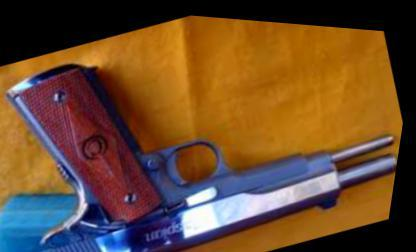pistol: (0, 0, 415, 250)
